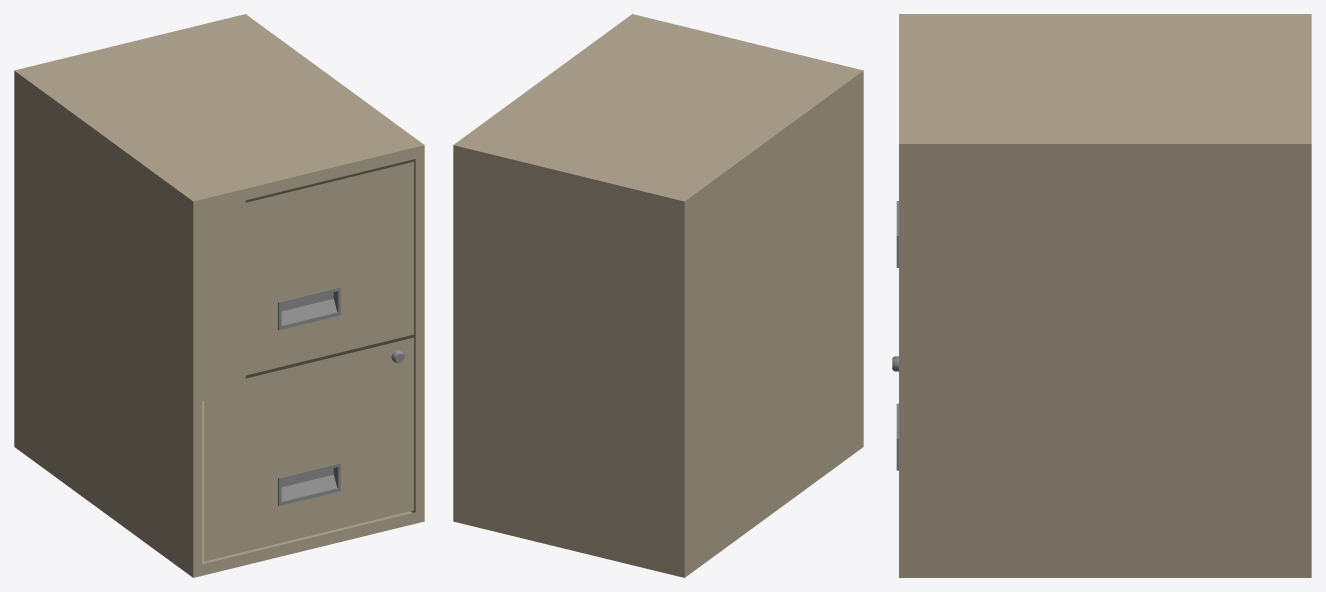
The model's file is rangement1.obj.
3 views of the same model, side by side, from view 1: azimuth 30°, elevation 25°; view 2: azimuth 150°, elevation 25°; view 3: azimuth 270°, elevation 25° (orthographic). The views are drawn at different scales.
Visible parts, largest first — view 1: Filing_cabinet_Filing_cabinet_Filing_cabinet_1, Filing_cabinet_Filing_cabinet_Aluminum_2; view 2: Filing_cabinet_Filing_cabinet_Filing_cabinet_1; view 3: Filing_cabinet_Filing_cabinet_Filing_cabinet_1.
Part boxes in pixels (left/top/right/bottom): Filing_cabinet_Filing_cabinet_Filing_cabinet_1: left=14, top=14, right=424, bottom=577; Filing_cabinet_Filing_cabinet_Aluminum_2: left=278, top=287, right=340, bottom=505; Filing_cabinet_Filing_cabinet_Filing_cabinet_1: left=453, top=14, right=863, bottom=577; Filing_cabinet_Filing_cabinet_Filing_cabinet_1: left=899, top=14, right=1311, bottom=577.
Size of the model in its own units: 38.6 by 60 by 52.6.
